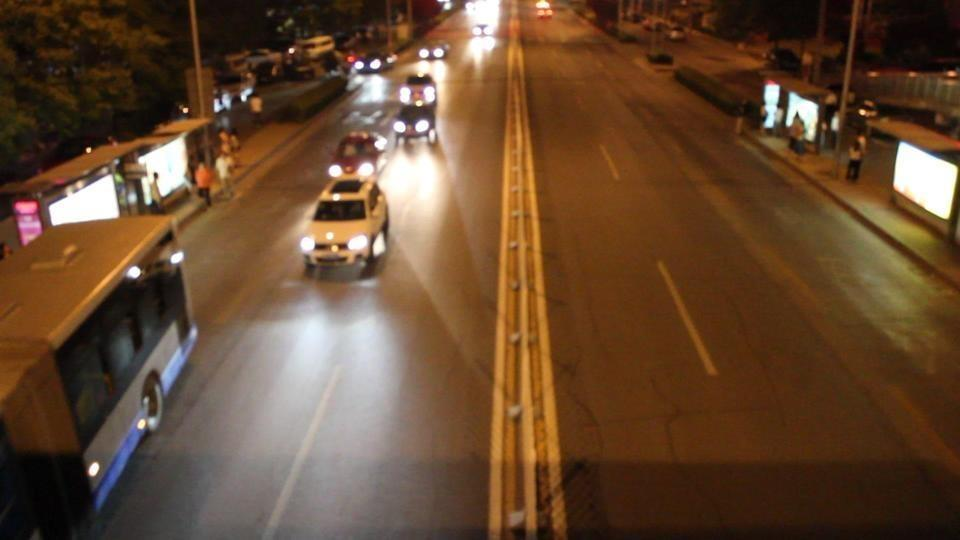car: (297, 174, 391, 278), (328, 131, 384, 182), (392, 107, 440, 148), (397, 73, 438, 116), (764, 47, 802, 74), (350, 52, 392, 75), (418, 43, 451, 60), (646, 50, 674, 66), (666, 25, 687, 42)
